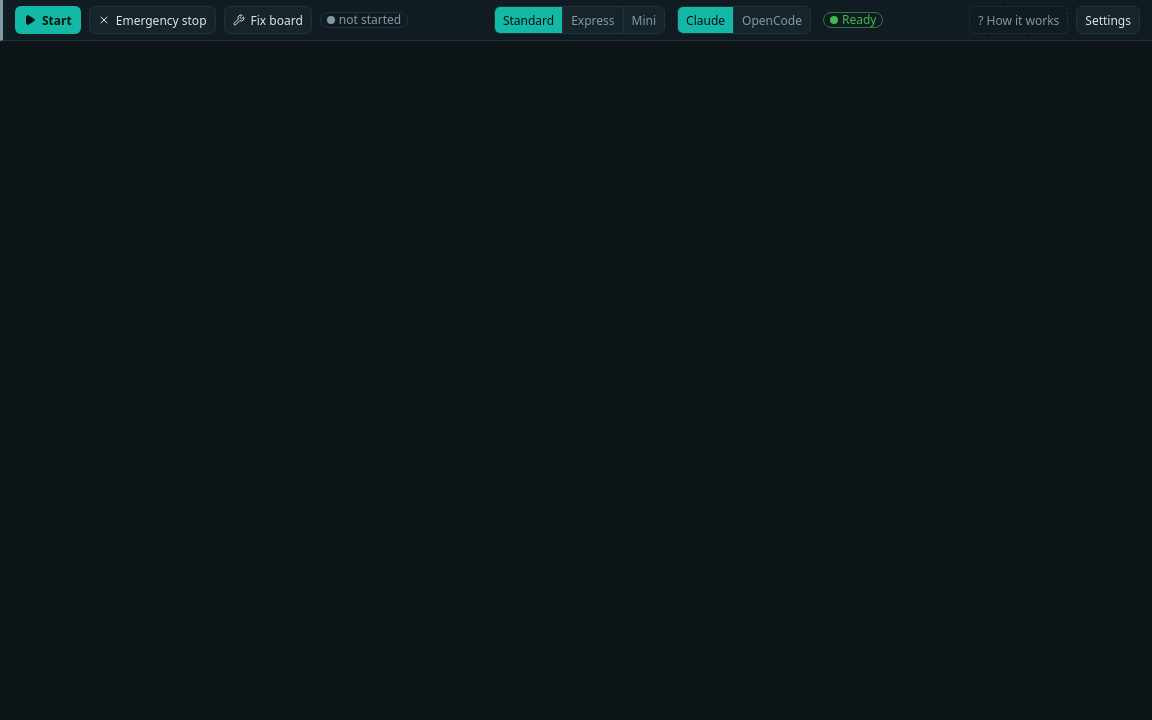
Test case: whether that agent can actually run › is a button you can open in the ready state too
Click the button with test id "ap-agent-state".
click(853, 20)  # box [823, 12, 884, 28]
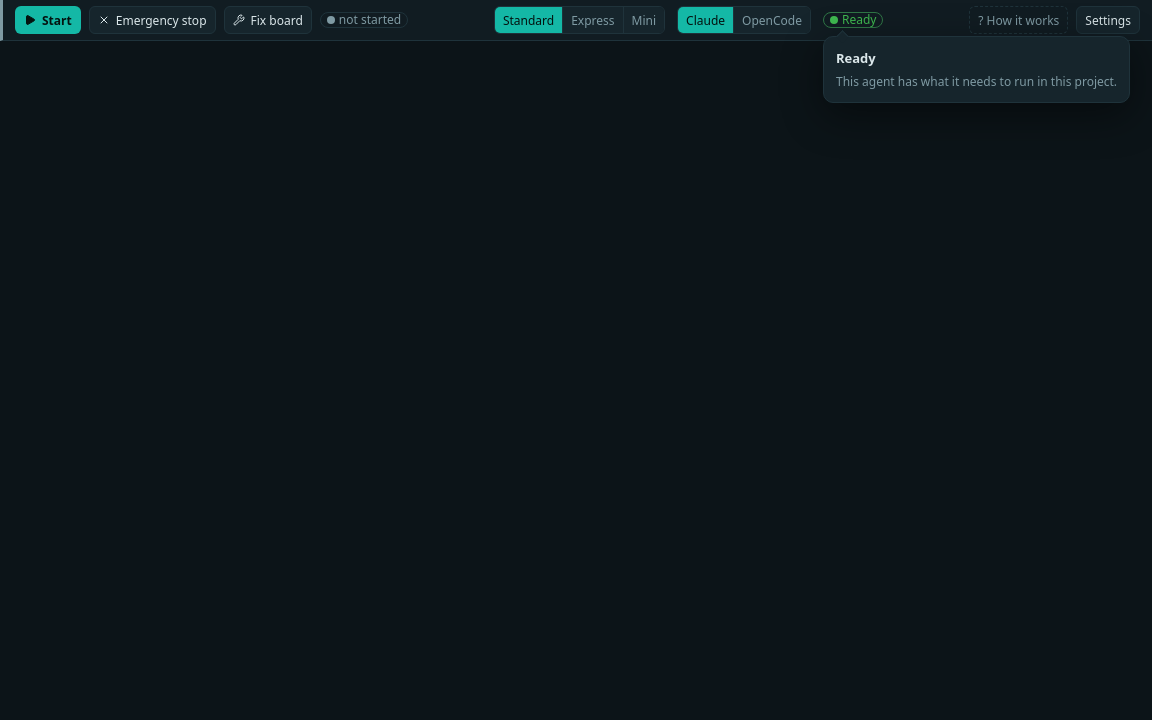
Now the dialog shows "has what it needs to run", box [836, 73, 1117, 90]
